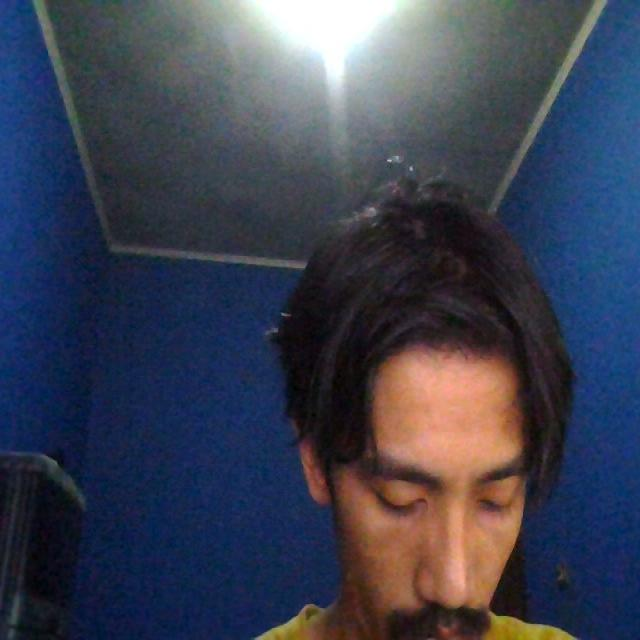Melihat Kebawah: (251, 146, 581, 640)
